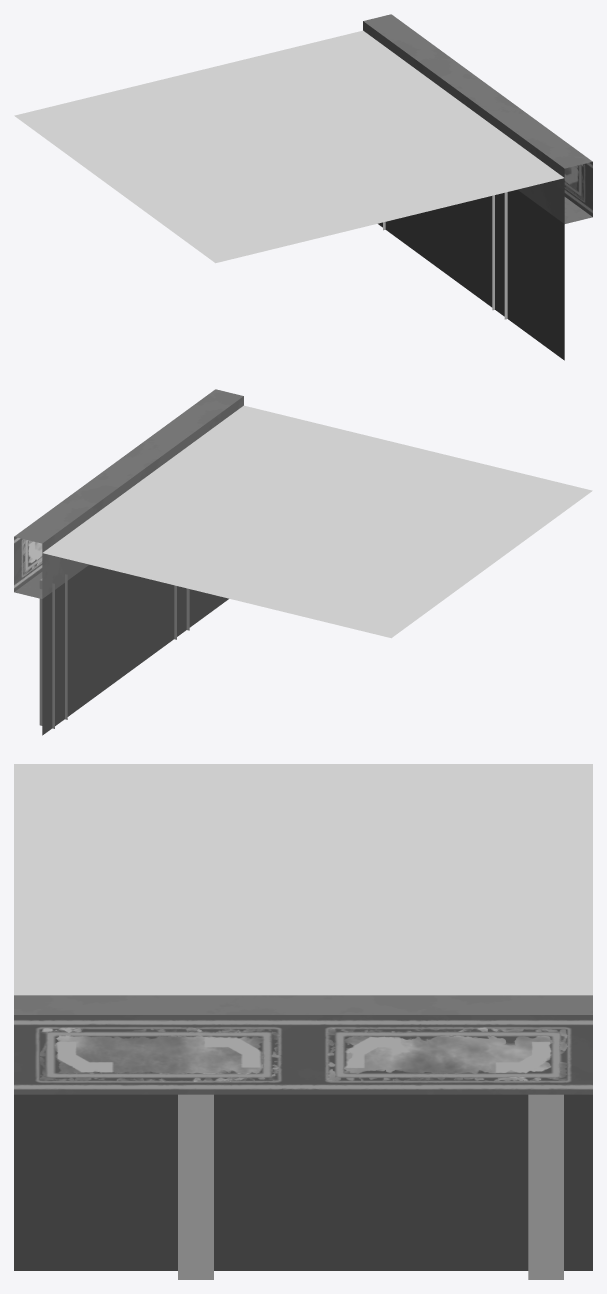
File: FloorStraight_A.fbx
3 renders of one model, top to bottom at view 1: azimuth 30°, elevation 25°; view 2: azimuth 150°, elevation 25°; view 3: azimuth 270°, elevation 25°, orthographic. The views are drawn at different scales.
Visible parts, largest first — view 1: FloorStraight_A; view 2: FloorStraight_A; view 3: FloorStraight_A.
Part boxes in pixels (x1,y1,x2,y2): FloorStraight_A: (14,14,592,360); FloorStraight_A: (14,389,592,735); FloorStraight_A: (14,764,592,1279).
Size of the model in its own units: 10.81 by 5.26 by 10.
